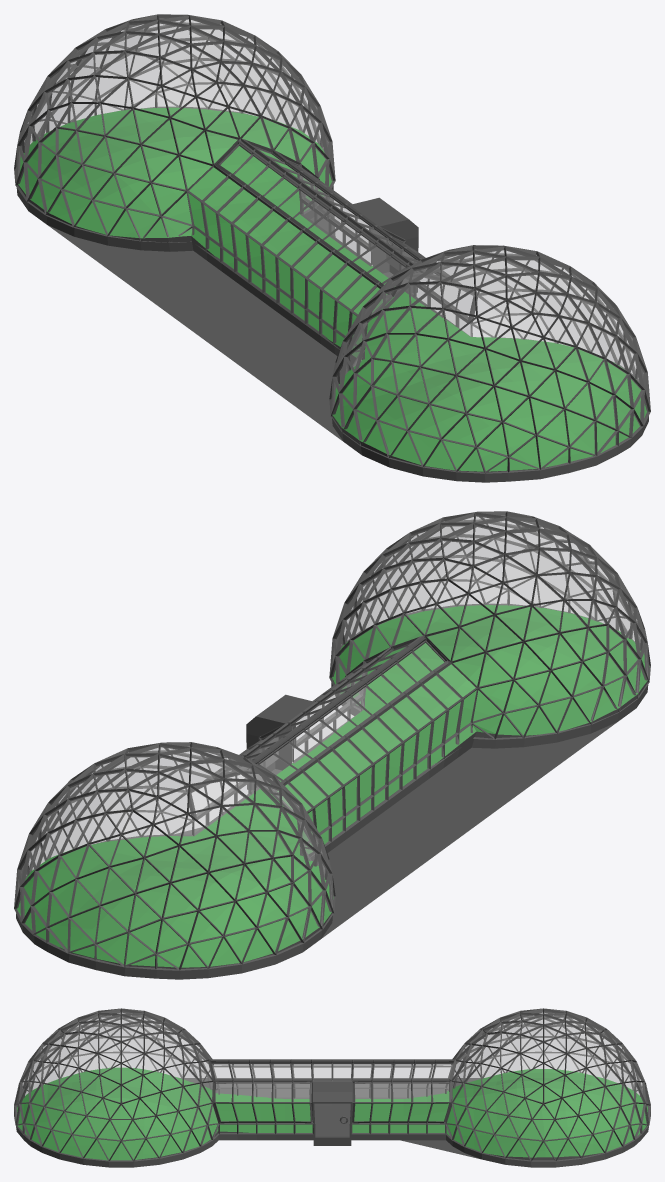
Rendered from Biodomes.fbx.
3 renders of one model, top to bottom at view 1: azimuth 30°, elevation 25°; view 2: azimuth 150°, elevation 25°; view 3: azimuth 270°, elevation 25°, orthographic. The views are drawn at different scales.
Visible parts, largest first — view 1: Torus; view 2: Torus; view 3: Torus.
Part boxes in pixels (x1,y1,x2,y2): Torus: [14, 14, 650, 482]; Torus: [14, 511, 650, 979]; Torus: [14, 1008, 650, 1167].
Bounding box in the file's own units: 3579 × 1207 × 643.
